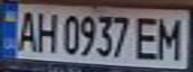0: (60, 11, 81, 56)
3: (96, 12, 115, 59)
7: (112, 12, 133, 60)
9: (78, 11, 96, 57)
A: (12, 7, 39, 53)
E: (133, 14, 163, 61)
H: (33, 8, 60, 54)
M: (154, 14, 187, 61)
